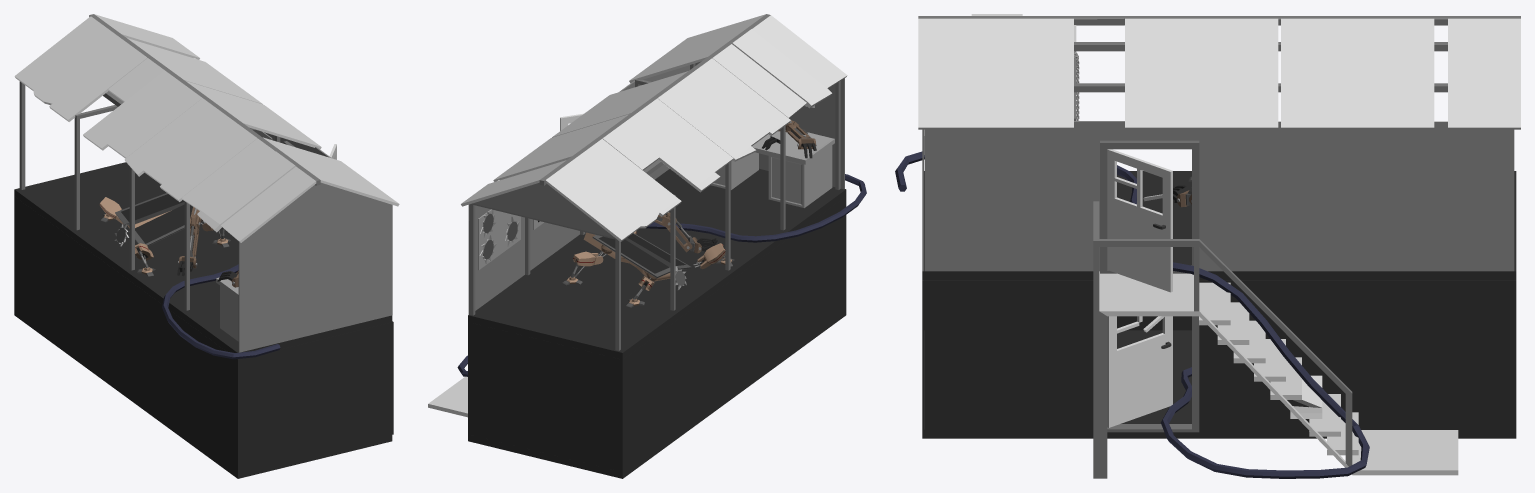
The model's file is Garage_noGenerator_UV(1).fbx.
3 views of the same model, side by side, from view 1: azimuth 30°, elevation 25°; view 2: azimuth 150°, elevation 25°; view 3: azimuth 270°, elevation 25° (orthographic). The views are drawn at different scales.
Visible parts, largest first — view 1: Garage_geo, WoodCutterWreckage_geo, cable_geo, workBench; view 2: Garage_geo, workBench, WoodCutterWreckage_geo, cable_geo, toolRack_1; view 3: Garage_geo, cable_geo.
Boxes of the visible parts, <box> form: Garage_geo: <box>14,14,399,478</box>; WoodCutterWreckage_geo: <box>99,193,230,276</box>; cable_geo: <box>162,264,280,359</box>; workBench: <box>216,277,238,341</box>; Garage_geo: <box>428,14,847,478</box>; workBench: <box>711,131,834,207</box>; WoodCutterWreckage_geo: <box>562,212,734,307</box>; cable_geo: <box>457,174,866,376</box>; toolRack_1: <box>478,209,520,270</box>; Garage_geo: <box>918,14,1520,478</box>; cable_geo: <box>895,151,1369,478</box>.
Size of the model in its own units: 986 by 1017 by 1544.
